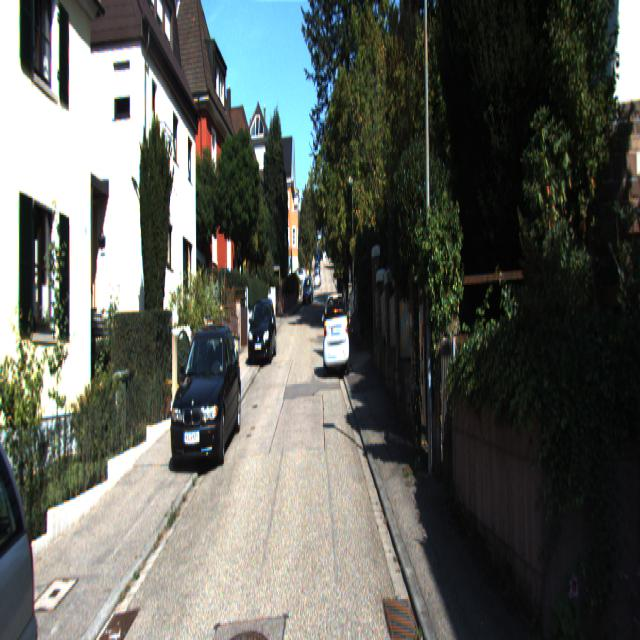Car: (0, 373, 60, 639), (168, 328, 242, 478), (322, 288, 350, 378), (246, 298, 277, 366)
